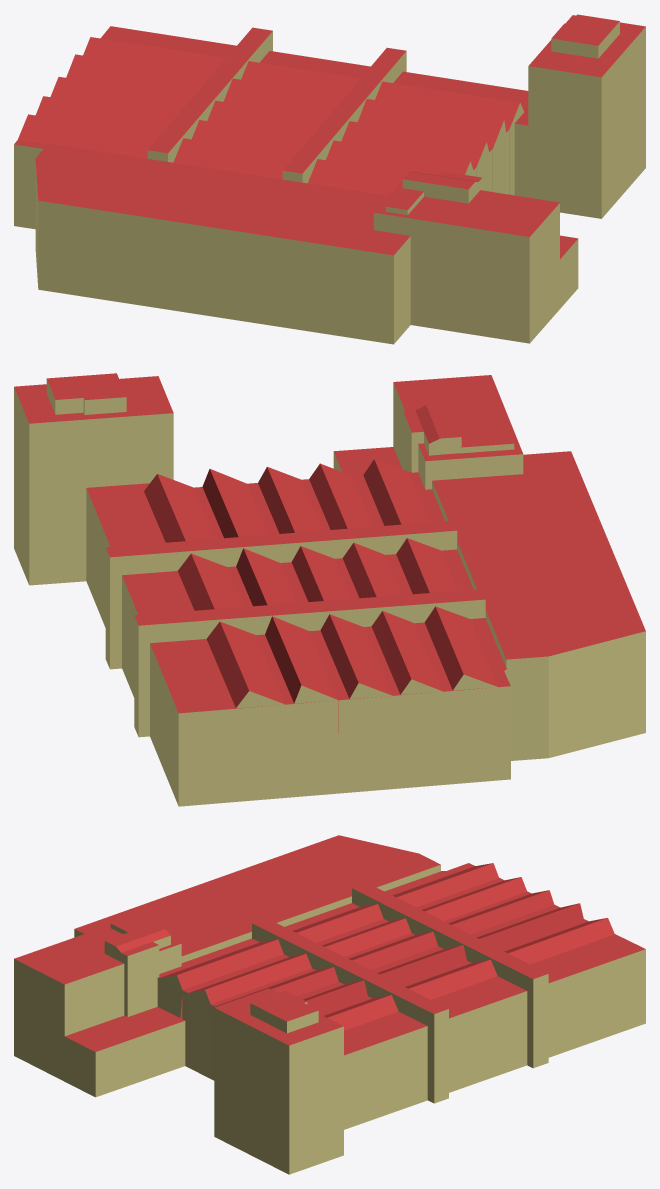
3 views of the same model, one above another, from view 1: azimuth 30°, elevation 25°; view 2: azimuth 150°, elevation 25°; view 3: azimuth 270°, elevation 25° (orthographic). The views are drawn at different scales.
Visible parts, largest first — view 1: group_27, group_24, group_37, group_22, group_9, group_16, group_6, group_13, group_3, group_50, group_32, group_39 (+14 smaller); view 2: group_51, group_24, group_50, group_22, group_27, group_3, group_16, group_9, group_6, group_13, group_30, group_40 (+11 smaller); view 3: group_51, group_22, group_24, group_50, group_37, group_16, group_48, group_13, group_3, group_9, group_6, group_30 (+13 smaller).
Part boxes in pixels (x1=…): group_27: x1=35, y1=163, x2=410, y2=344; group_24: x1=35, y1=143, x2=410, y2=255; group_37: x1=373, y1=203, x2=559, y2=343; group_22: x1=528, y1=27, x2=645, y2=218; group_9: x1=66, y1=54, x2=503, y2=148; group_16: x1=17, y1=114, x2=407, y2=195; group_6: x1=50, y1=77, x2=486, y2=167; group_13: x1=35, y1=96, x2=469, y2=175; group_3: x1=83, y1=37, x2=519, y2=129; group_50: x1=14, y1=26, x2=528, y2=169; group_32: x1=374, y1=180, x2=559, y2=236; group_39: x1=148, y1=27, x2=272, y2=153; group_51: x1=89, y1=496, x2=510, y2=806; group_24: x1=432, y1=451, x2=645, y2=659; group_50: x1=89, y1=471, x2=510, y2=713; group_22: x1=14, y1=387, x2=173, y2=585; group_27: x1=432, y1=481, x2=645, y2=760; group_3: x1=144, y1=474, x2=285, y2=707; group_16: x1=363, y1=459, x2=498, y2=690; group_9: x1=202, y1=469, x2=338, y2=702; group_6: x1=258, y1=466, x2=392, y2=698; group_13: x1=309, y1=463, x2=443, y2=694; group_30: x1=105, y1=530, x2=457, y2=669; group_40: x1=134, y1=599, x2=485, y2=737; group_51: x1=157, y1=949, x2=645, y2=1129; group_22: x1=214, y1=1008, x2=343, y2=1174; group_24: x1=75, y1=835, x2=440, y2=956; group_50: x1=158, y1=863, x2=645, y2=1055; group_37: x1=14, y1=943, x2=181, y2=1081; group_16: x1=160, y1=863, x2=498, y2=989; group_48: x1=64, y1=1021, x2=185, y2=1097; group_13: x1=189, y1=877, x2=526, y2=1004; group_3: x1=324, y1=918, x2=614, y2=1030; group_9: x1=303, y1=903, x2=583, y2=1013; group_6: x1=216, y1=890, x2=554, y2=1006; group_30: x1=252, y1=923, x2=448, y2=1103.
Size of the model in its own units: 105 by 109 by 26.72.
